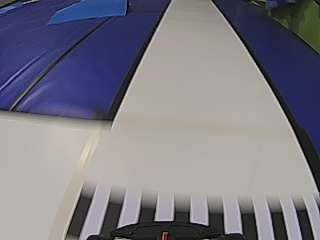CrossWalk: (73, 199, 305, 220)
